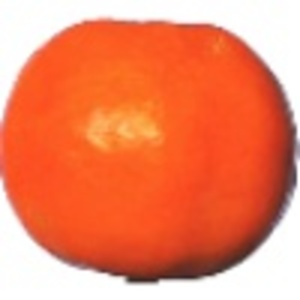tangerina: (2, 15, 300, 286)
